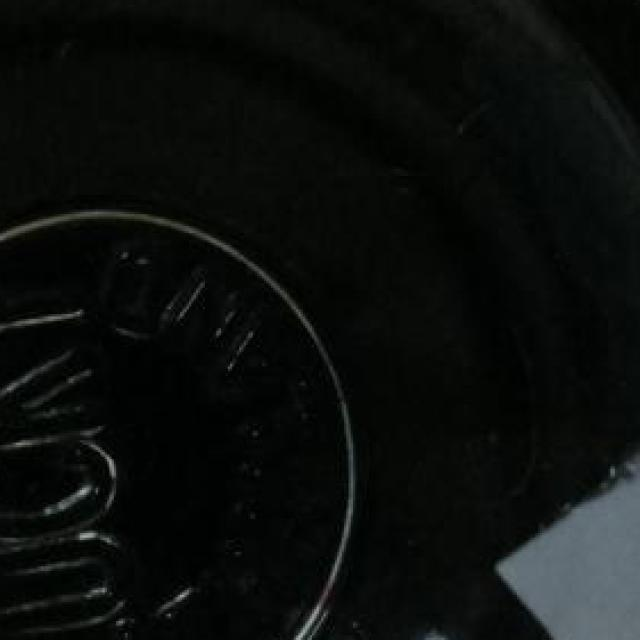Microplastic: (489, 461, 640, 640)
